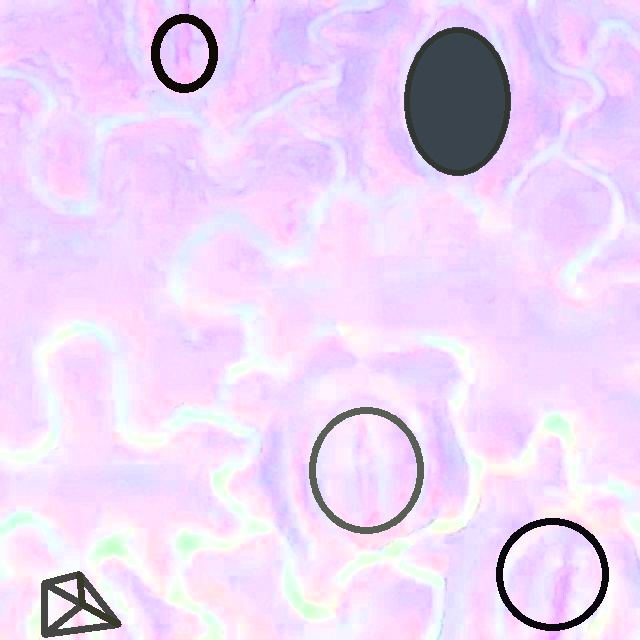open: (404, 26, 510, 175), (308, 406, 423, 534), (496, 517, 608, 632), (149, 14, 218, 93), (42, 571, 121, 636)
